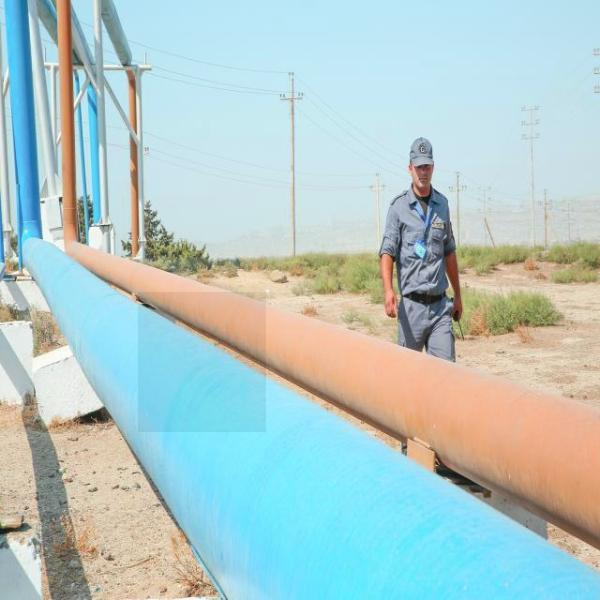no leak: (138, 292, 266, 432)
